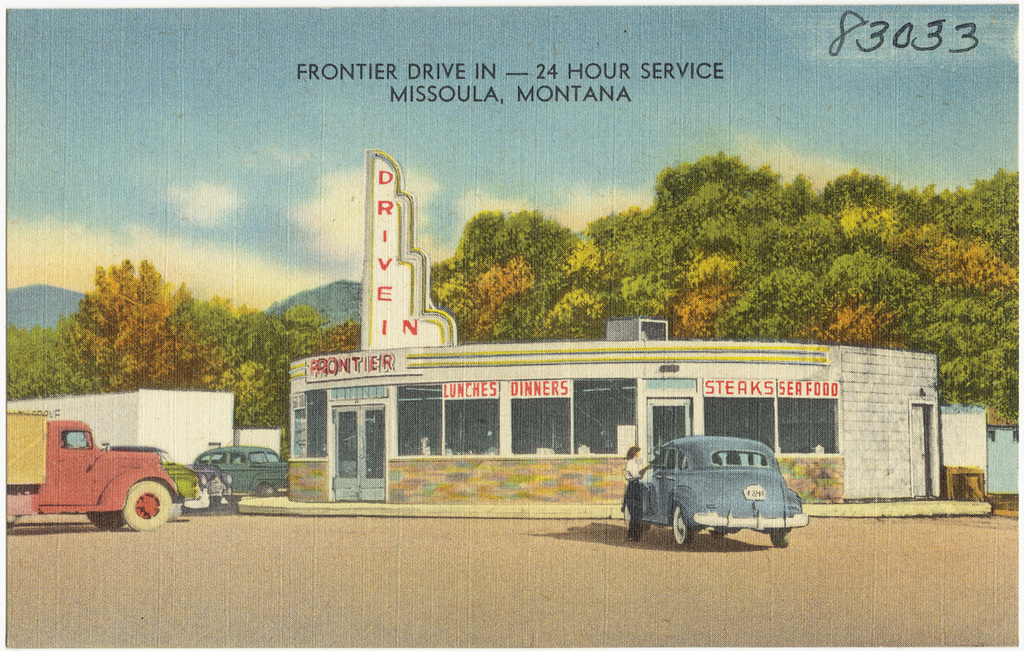mobil: (632, 434, 812, 537)
